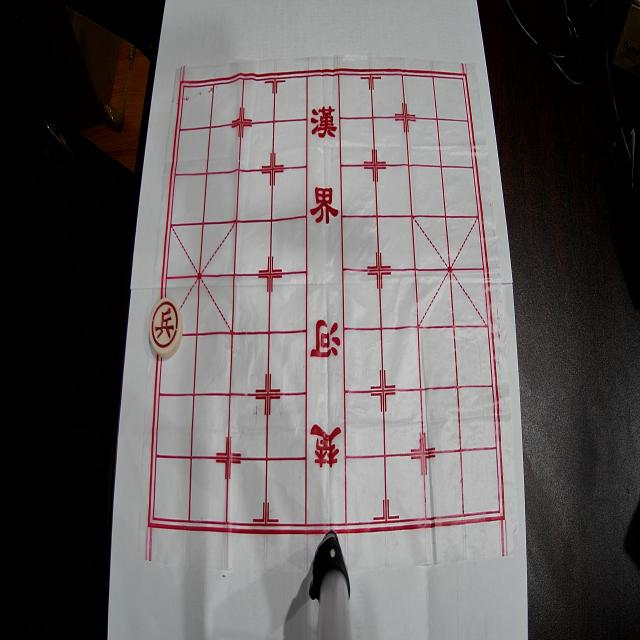red-soldier: (149, 297, 183, 358)
